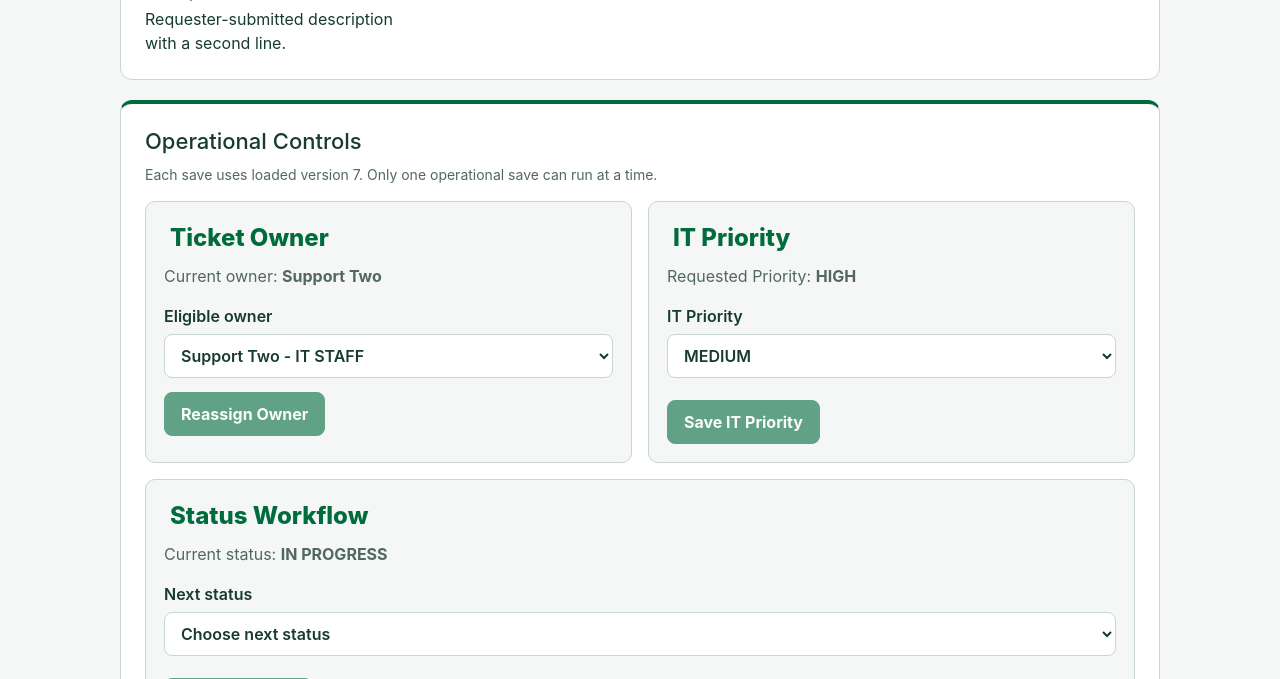
Scenario: UI-06 integrated Staff Ticket Detail › changes IT Priority independently from Requested Priority
The image size is (1280, 679).
(page scrolled)
Select "URGENT" in the dropdown labelled "IT Priority" at (892, 356), box [667, 334, 1116, 378]
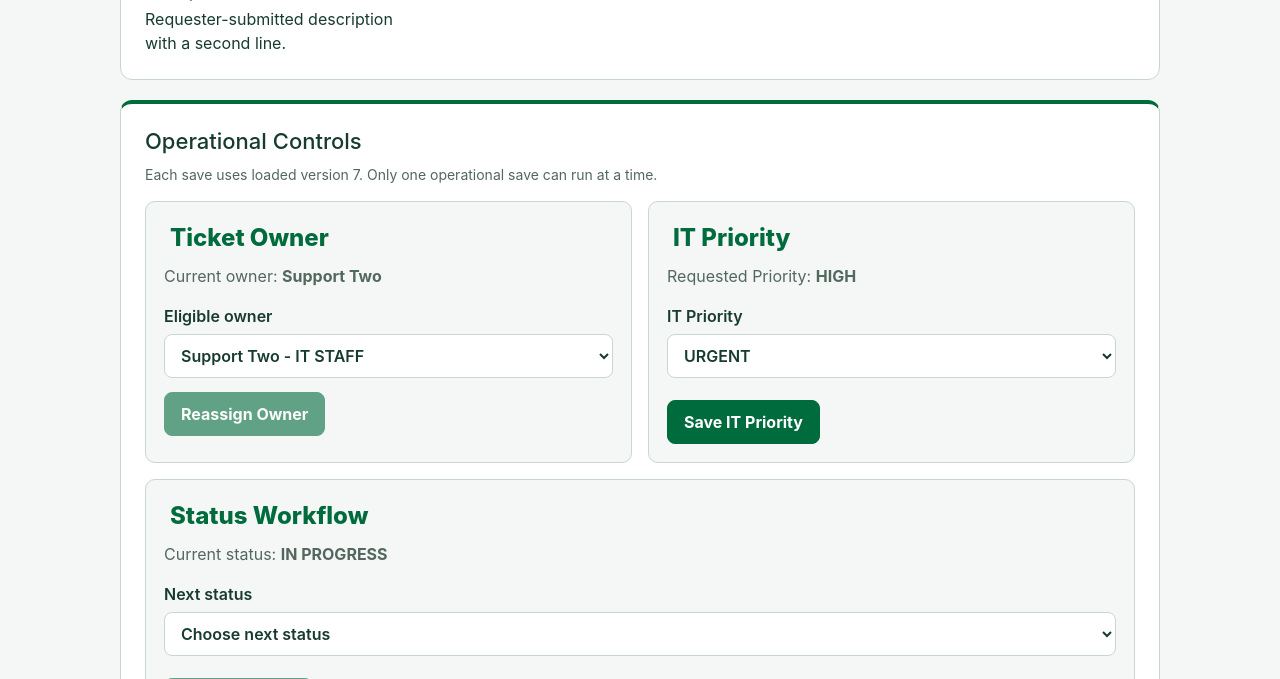
Click the button "Save IT Priority" at (744, 422), box [667, 400, 820, 444]
(page scrolled)
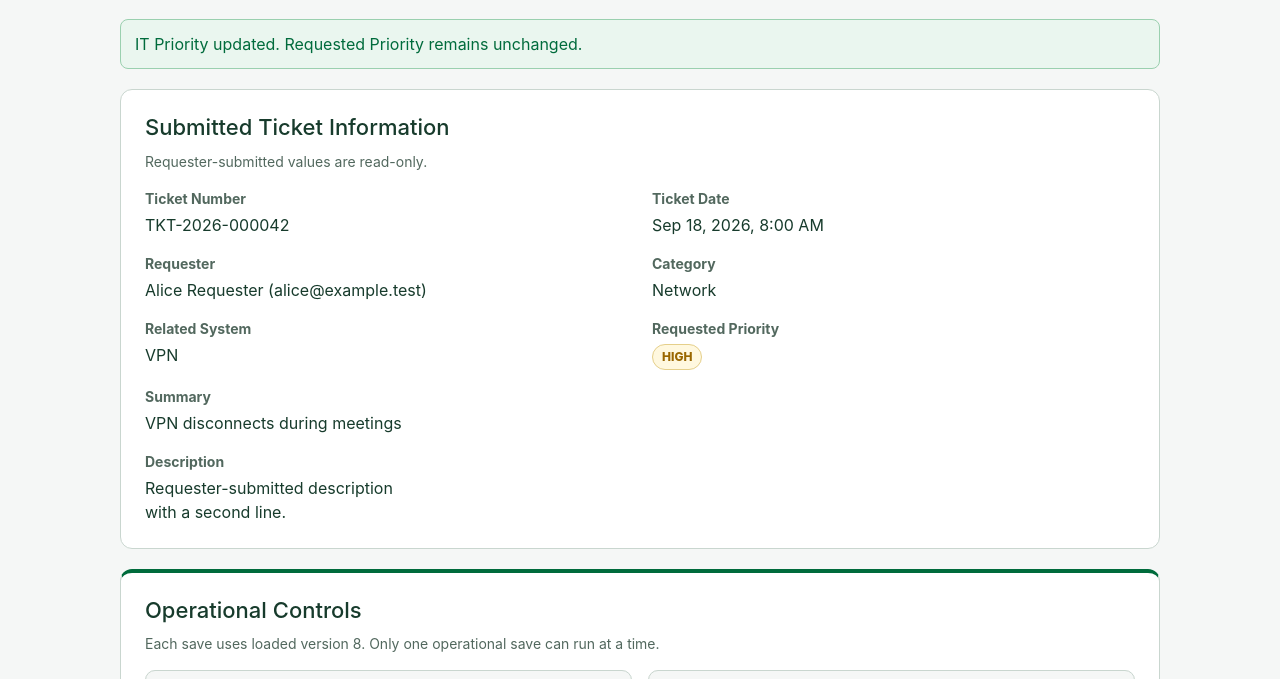
expect the text "HIGH" is shown: met, box [652, 344, 702, 370]
expect the text "IT Priority updated. Requested Priority remains unchanged." is shown: met, box [120, 19, 1160, 69]
